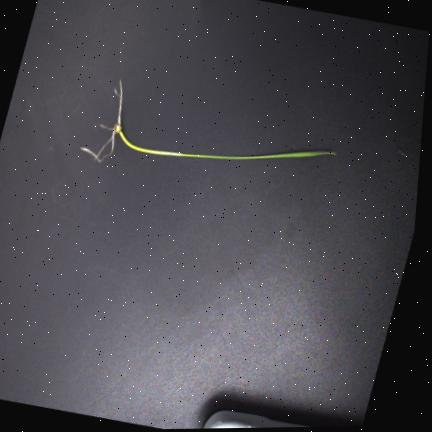leaf1: (180, 150, 334, 158)
root1: (79, 125, 117, 164)
root2: (94, 132, 116, 161)
root3: (98, 123, 116, 131)
root4: (113, 89, 121, 125)
root5: (119, 80, 122, 125)
stem: (118, 127, 180, 157)
